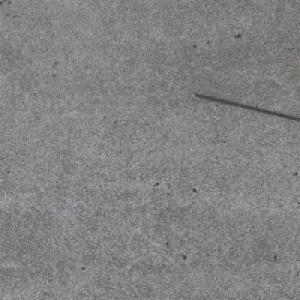LuggagePart: (192, 93, 300, 123)
